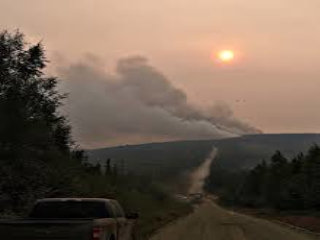smoke: (56, 53, 264, 143)
